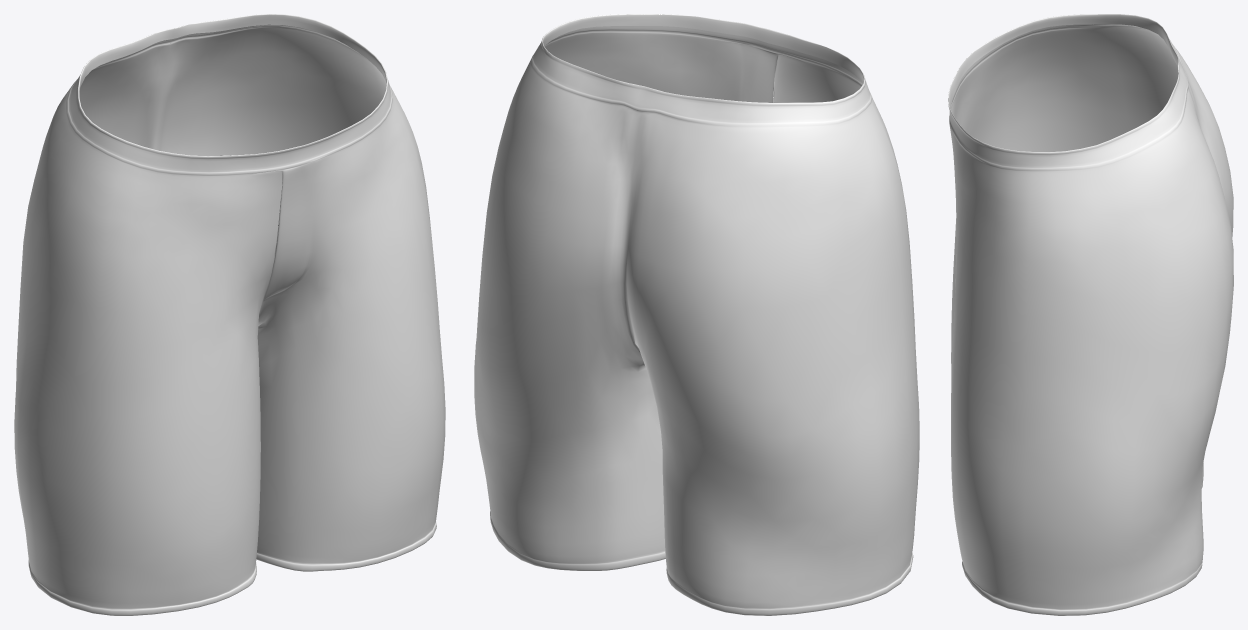
File: Shorts.glb
3 renders of one model, left to right at view 1: azimuth 30°, elevation 25°; view 2: azimuth 150°, elevation 25°; view 3: azimuth 270°, elevation 25°, orthographic. The views are drawn at different scales.
Visible parts, largest first — view 1: Boxers_for_Genesis.001; view 2: Boxers_for_Genesis.001; view 3: Boxers_for_Genesis.001.
Boxes of the visible parts, <box> form: Boxers_for_Genesis.001: <box>14,14,445,615</box>; Boxers_for_Genesis.001: <box>474,14,919,615</box>; Boxers_for_Genesis.001: <box>948,14,1233,615</box>.
Size of the model in its own units: 8.8 by 10.3 by 5.77.
Materials: 1 (1 with a texture image).
